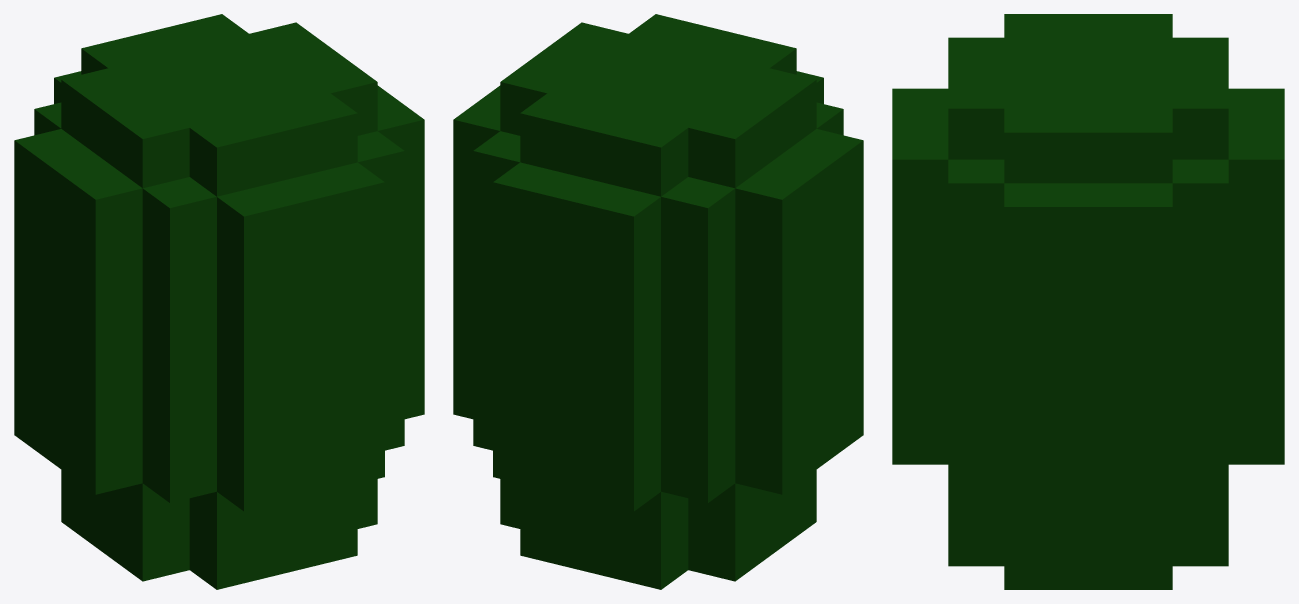
Rendered from Vase Water.obj.
3 renders of one model, left to right at view 1: azimuth 30°, elevation 25°; view 2: azimuth 150°, elevation 25°; view 3: azimuth 270°, elevation 25°, orthographic. The views are drawn at different scales.
Size of the model in its own units: 0.7 by 0.9 by 0.7.
1 material, 1 textured.
